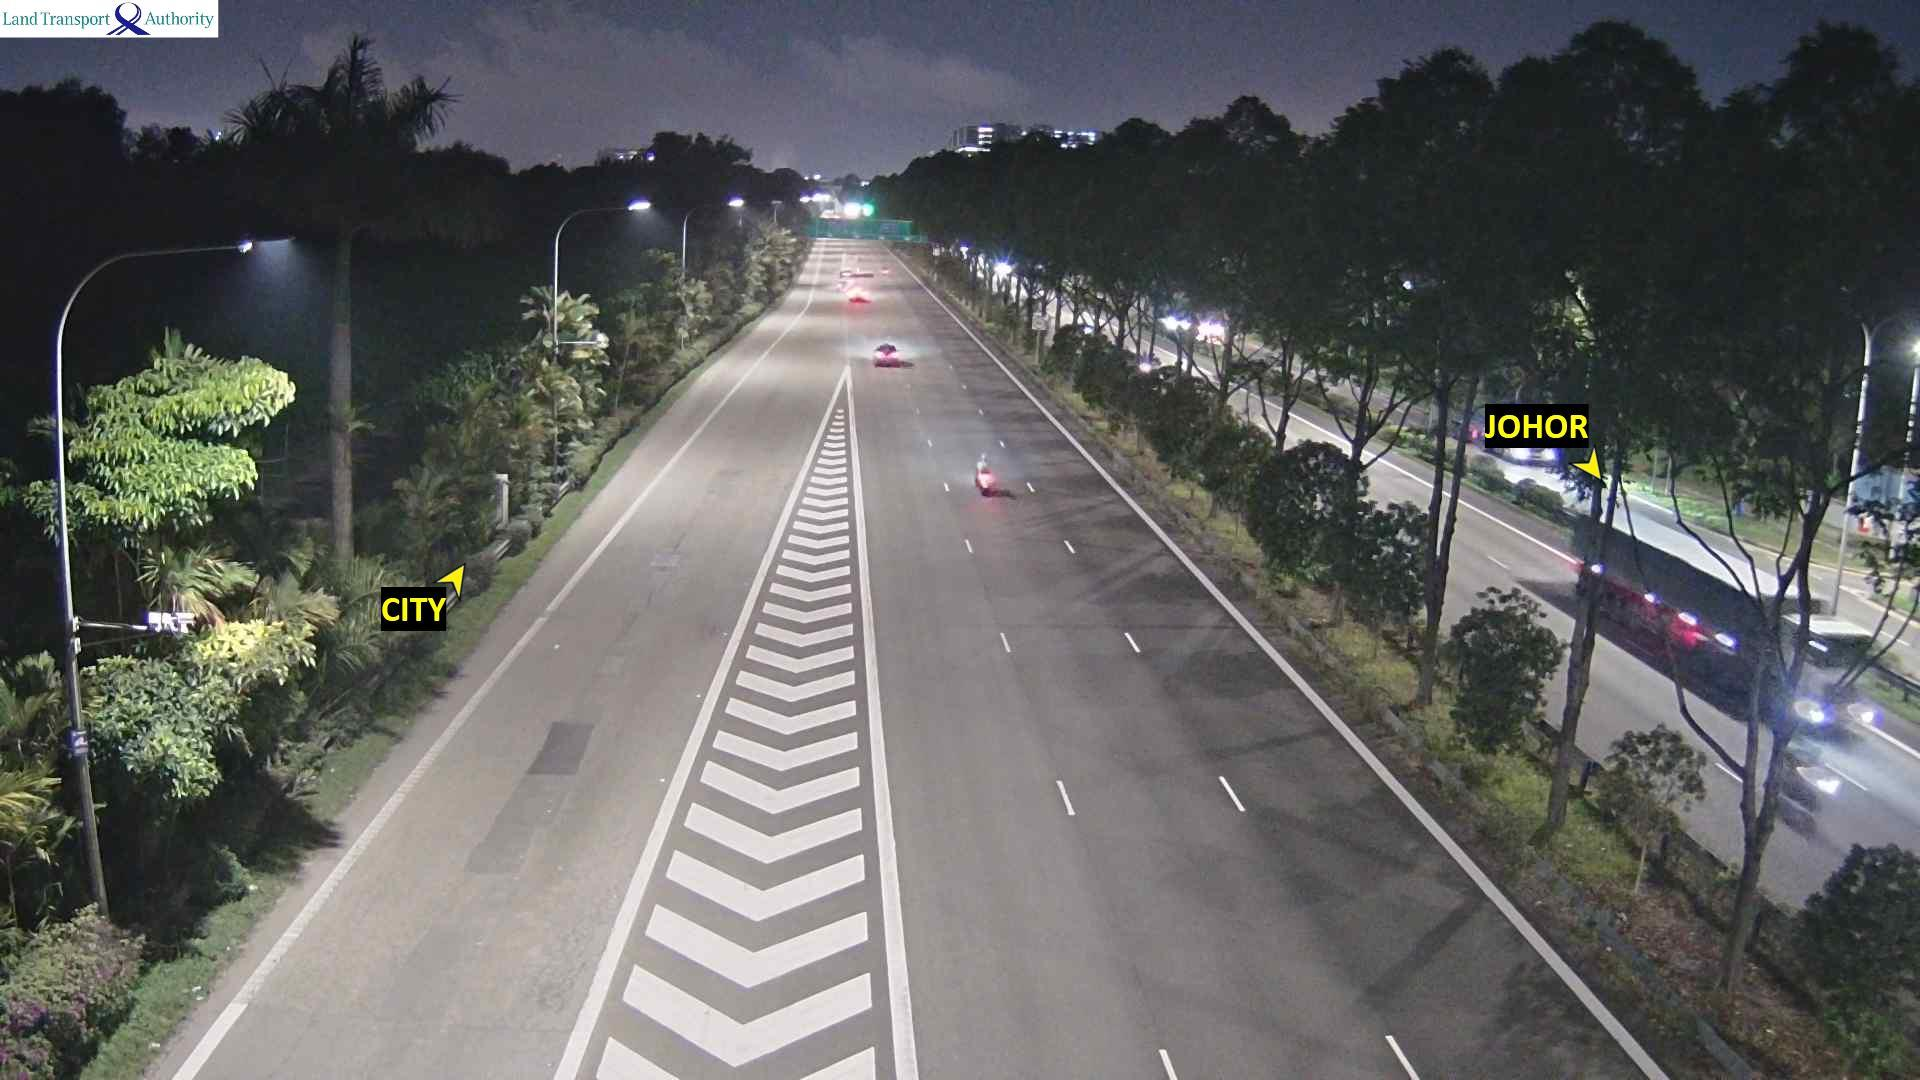incoming: (1791, 624, 1876, 741), (1796, 761, 1850, 825)
